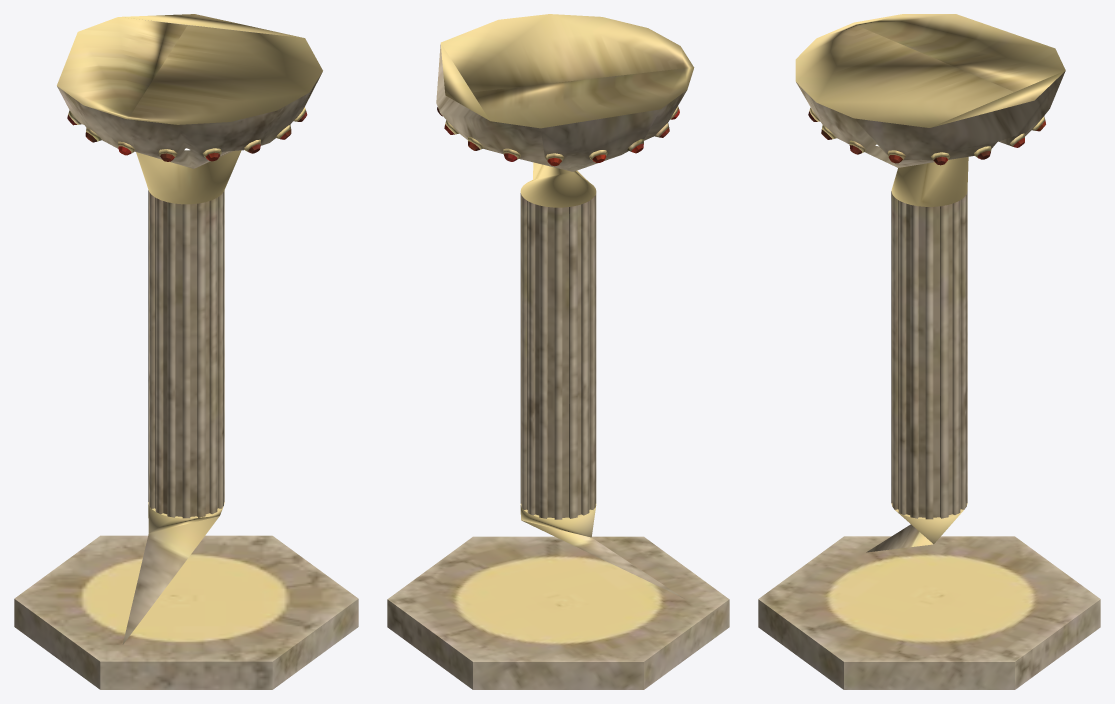
File: column-torch.lod0.glb
3 views of the same model, side by side, from view 1: azimuth 30°, elevation 25°; view 2: azimuth 150°, elevation 25°; view 3: azimuth 270°, elevation 25° (orthographic).
Parts seen in each view (by area): view 1: Cylinder_Material.001_0; view 2: Cylinder_Material.001_0; view 3: Cylinder_Material.001_0.
Part boxes in pixels (box(x1,y1,x2,y2)): Cylinder_Material.001_0: box(14, 14, 358, 689); Cylinder_Material.001_0: box(387, 14, 729, 689); Cylinder_Material.001_0: box(758, 14, 1100, 689).
Size of the model in its own units: 1.05 by 2.17 by 1.21.
2 materials, 2 textured.
